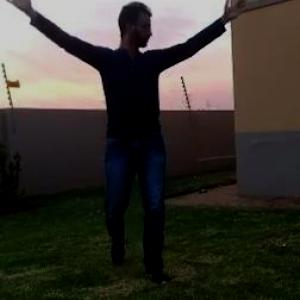takeoff: (2, 0, 261, 291)
